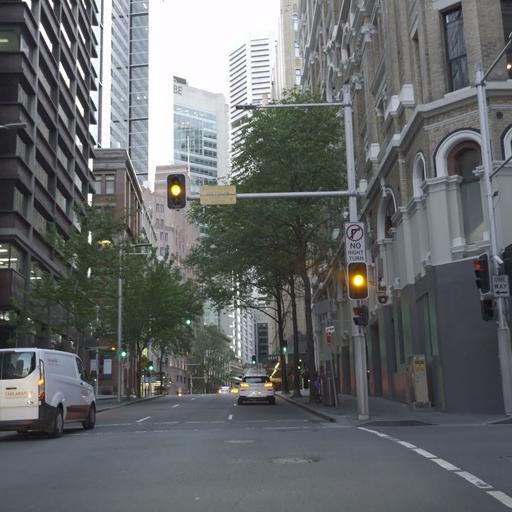Street light: (233, 98, 370, 419), (473, 22, 511, 421), (97, 232, 152, 401), (166, 172, 186, 209)
